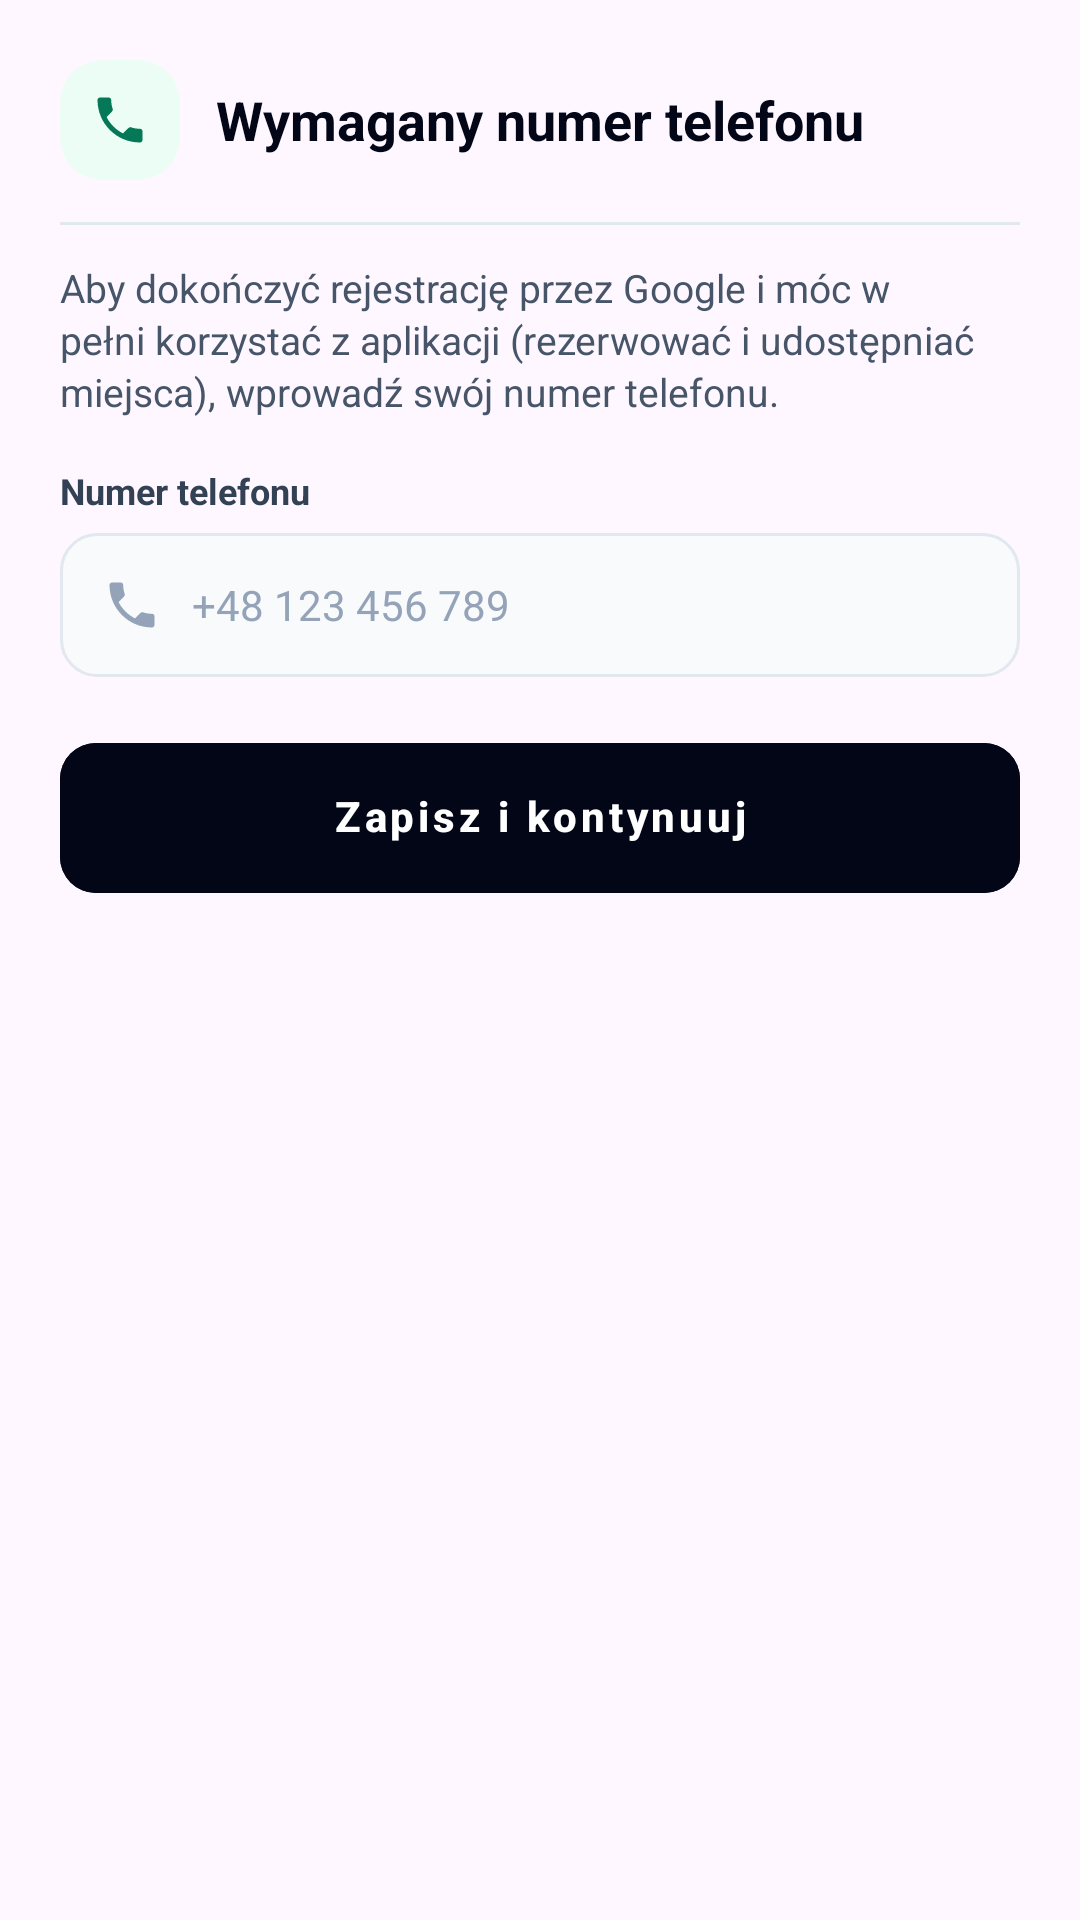

Icons on this 1080w x 1920h Android screen, each with the point to tap as (x,y):
phone: (120,120)
